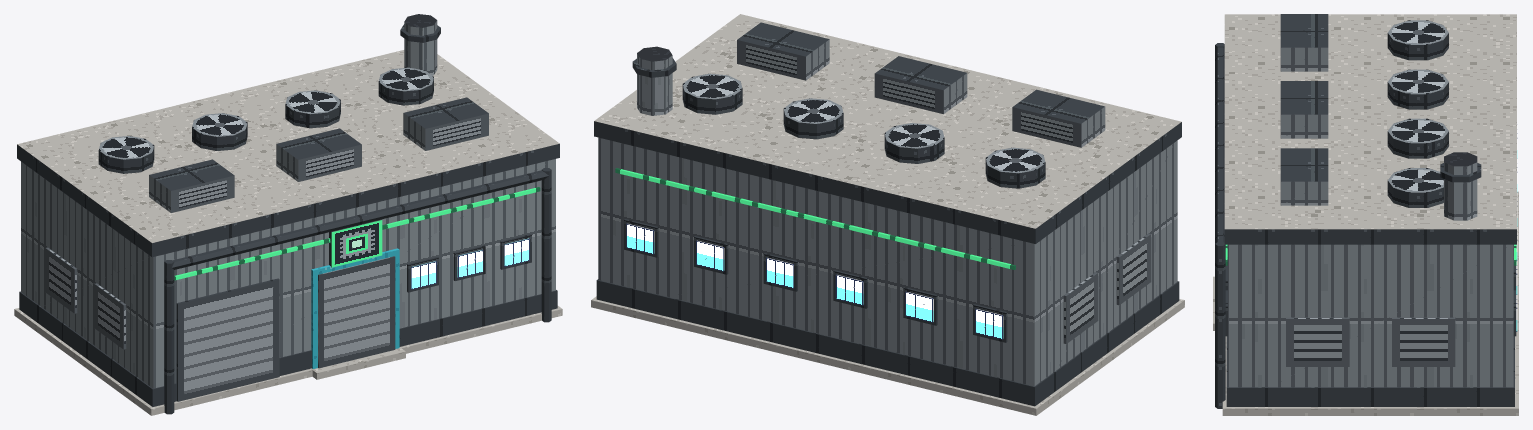
File: datacenter.glb
The picture shows the model from 3 angles, left to right: view 1: azimuth 30°, elevation 25°; view 2: azimuth 150°, elevation 25°; view 3: azimuth 270°, elevation 25°; orthographic projection. The views are drawn at different scales.
Parts seen in each view (by area): view 1: datacenter; view 2: datacenter; view 3: datacenter.
Part boxes in pixels (box(x1,y1,x2,y2)): datacenter: box(14, 14, 562, 415); datacenter: box(591, 14, 1184, 415); datacenter: box(1213, 14, 1518, 415).
Size of the model in its own units: 9.7 by 5 by 5.78.
Materials: 11 (11 with a texture image).
